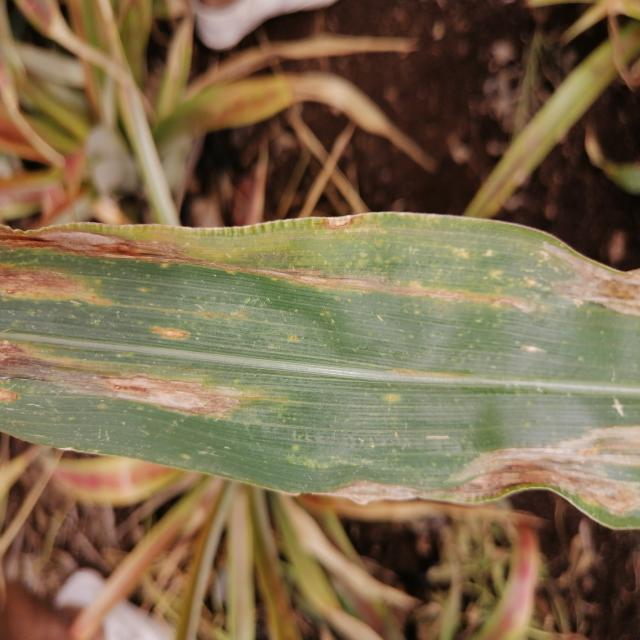Corn_Leaf_Blight: (6, 208, 640, 517)
